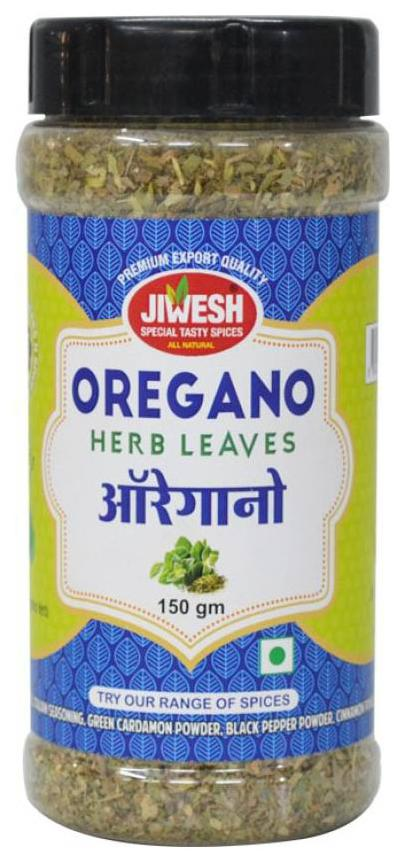JAR: (8, 10, 400, 850)
